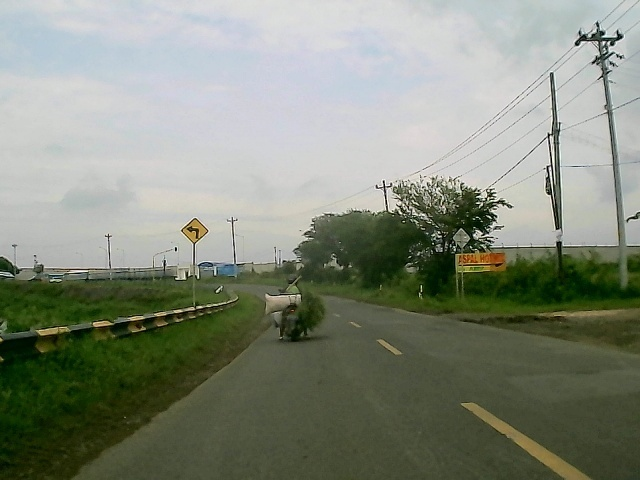Tikungan tajam ke kiri: (179, 215, 212, 246)
